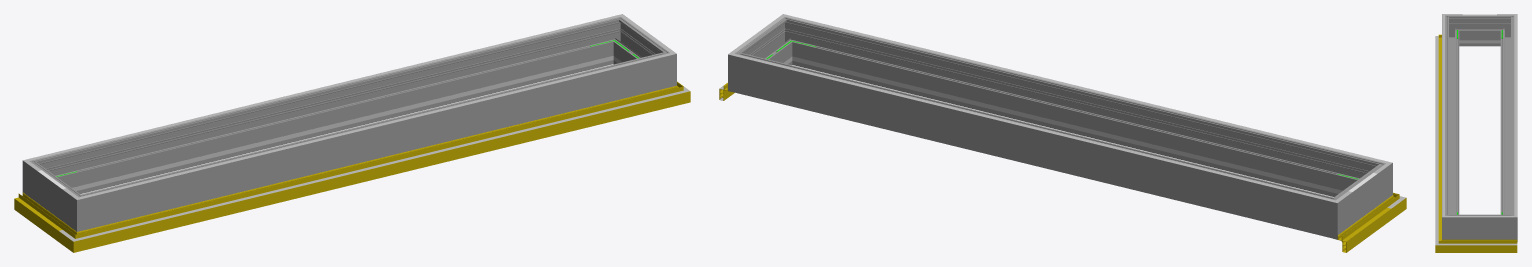
3 renders of one model, left to right at view 1: azimuth 30°, elevation 25°; view 2: azimuth 150°, elevation 25°; view 3: azimuth 270°, elevation 25°, orthographic. The views are drawn at different scales.
Parts seen in each view (by area): view 1: 3DGeom-276, 3DGeom-298, 3DGeom-90, 3DGeom-244, 3DGeom-100, 3DGeom-304, 3DGeom-316, 3DGeom-270, 3DGeom-290, 3DGeom-268, 3DGeom-284, 3DGeom-85 (+4 smaller); view 2: 3DGeom-298, 3DGeom-276, 3DGeom-239, 3DGeom-304, 3DGeom-316, 3DGeom-278, 3DGeom-284, 3DGeom-85, 3DGeom-268, 3DGeom-290, 3DGeom-297, 3DGeom-270; view 3: 3DGeom-298, 3DGeom-276, 3DGeom-268, 3DGeom-297, 3DGeom-97, 3DGeom-90, 3DGeom-100, 3DGeom-304, 3DGeom-316, 3DGeom-290, 3DGeom-284, 3DGeom-270 (+12 smaller).
Boxes of the visible parts, bbox=[...] form: 3DGeom-276: bbox=[51, 22, 609, 193]; 3DGeom-298: bbox=[98, 56, 651, 225]; 3DGeom-90: bbox=[94, 90, 664, 246]; 3DGeom-244: bbox=[81, 62, 588, 189]; 3DGeom-100: bbox=[97, 96, 664, 235]; 3DGeom-304: bbox=[49, 20, 598, 155]; 3DGeom-316: bbox=[101, 58, 650, 193]; 3DGeom-270: bbox=[62, 187, 102, 231]; 3DGeom-290: bbox=[647, 44, 676, 91]; 3DGeom-268: bbox=[37, 169, 70, 220]; 3DGeom-284: bbox=[599, 17, 633, 64]; 3DGeom-85: bbox=[14, 192, 66, 241]; 3DGeom-298: bbox=[796, 22, 1364, 196]; 3DGeom-276: bbox=[754, 57, 1315, 232]; 3DGeom-239: bbox=[817, 62, 1333, 192]; 3DGeom-304: bbox=[754, 59, 1313, 196]; 3DGeom-316: bbox=[807, 20, 1365, 157]; 3DGeom-278: bbox=[1311, 190, 1352, 239]; 3DGeom-284: bbox=[728, 44, 758, 97]; 3DGeom-85: bbox=[1333, 202, 1391, 252]; 3DGeom-268: bbox=[1344, 171, 1377, 223]; 3DGeom-290: bbox=[772, 17, 806, 65]; 3DGeom-297: bbox=[747, 26, 789, 64]; 3DGeom-270: bbox=[1354, 158, 1392, 205]; 3DGeom-298: bbox=[1442, 22, 1459, 214]; 3DGeom-276: bbox=[1500, 22, 1514, 214]; 3DGeom-268: bbox=[1462, 15, 1496, 46]; 3DGeom-297: bbox=[1462, 214, 1496, 239]; 3DGeom-97: bbox=[1456, 239, 1517, 252]; 3DGeom-90: bbox=[1438, 42, 1441, 236]; 3DGeom-100: bbox=[1435, 44, 1438, 236]; 3DGeom-304: bbox=[1514, 22, 1517, 208]; 3DGeom-316: bbox=[1442, 22, 1445, 208]; 3DGeom-290: bbox=[1442, 208, 1462, 239]; 3DGeom-284: bbox=[1497, 208, 1517, 241]; 3DGeom-270: bbox=[1442, 14, 1462, 46].
Bounding box in the file's own units: 3.66 × 0.2667 × 0.6096.
